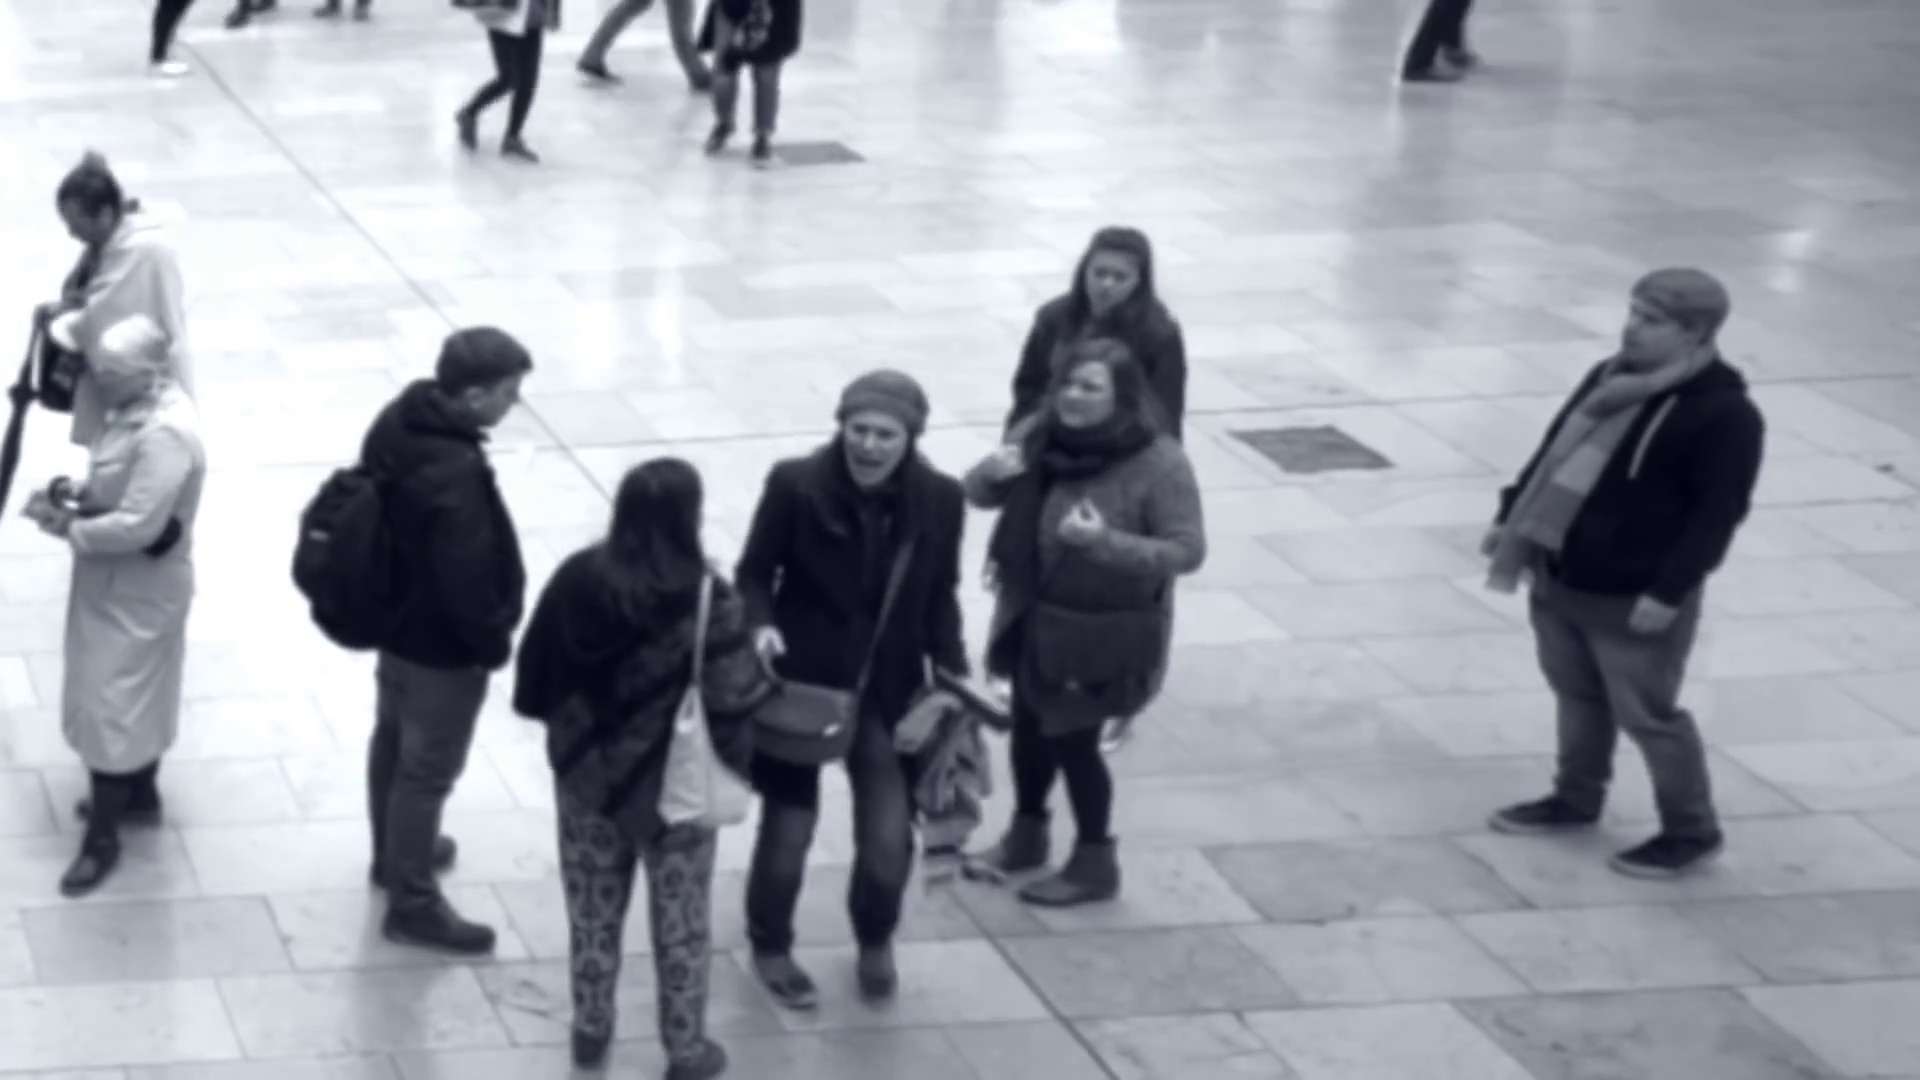face: (1621, 292, 1703, 364), (842, 405, 902, 480), (1050, 361, 1109, 433), (1084, 248, 1141, 304)
